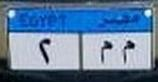2: (37, 37, 53, 64)
meem: (120, 38, 136, 66), (98, 39, 114, 66)
